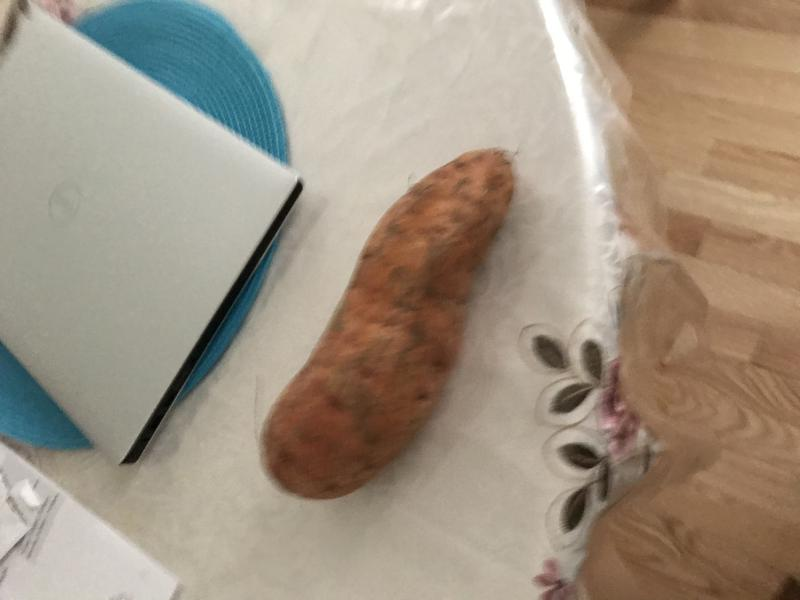sweet_potato: (247, 129, 526, 518), (121, 167, 122, 168)
